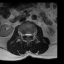CCS_normal: (27, 31, 29, 40)
LFS_normal: (31, 31, 33, 38)
LLS_normal: (29, 31, 31, 38)
RFS_normal: (22, 31, 24, 37)
RLS_normal: (24, 31, 27, 38)
